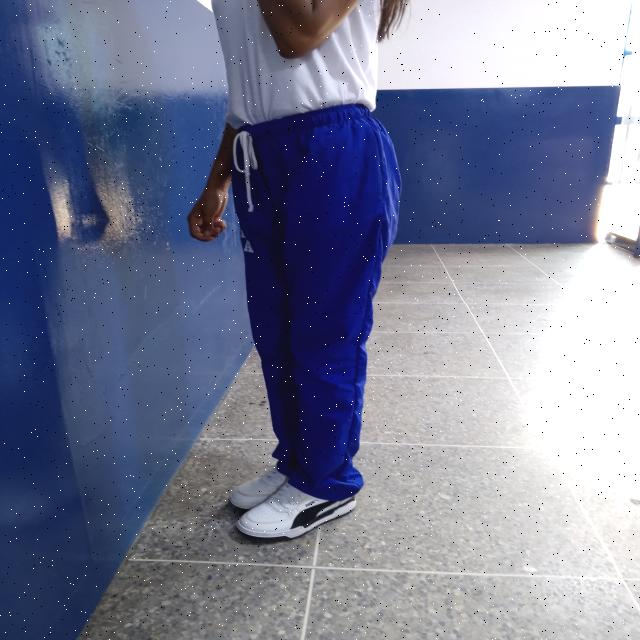uniforme_superior: (229, 103, 401, 501)
